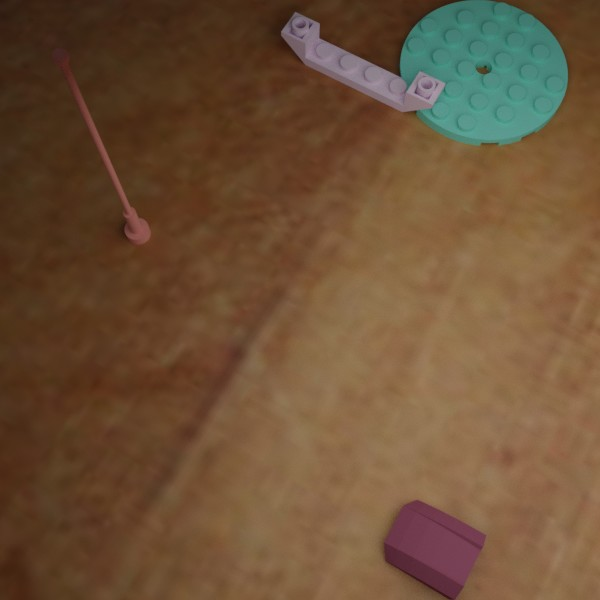lego: (399, 0, 567, 145), (50, 47, 150, 244), (281, 11, 445, 112), (383, 499, 486, 599)
